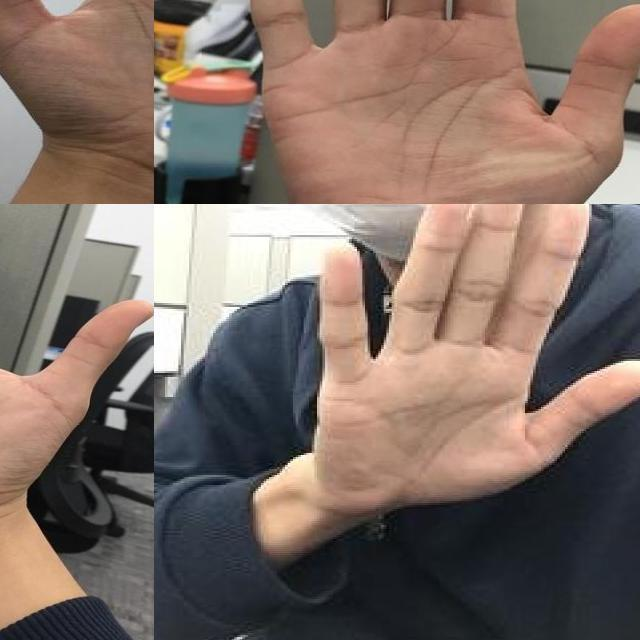hand: (309, 204, 640, 519), (248, 0, 640, 204), (0, 204, 154, 534), (0, 0, 154, 185)
